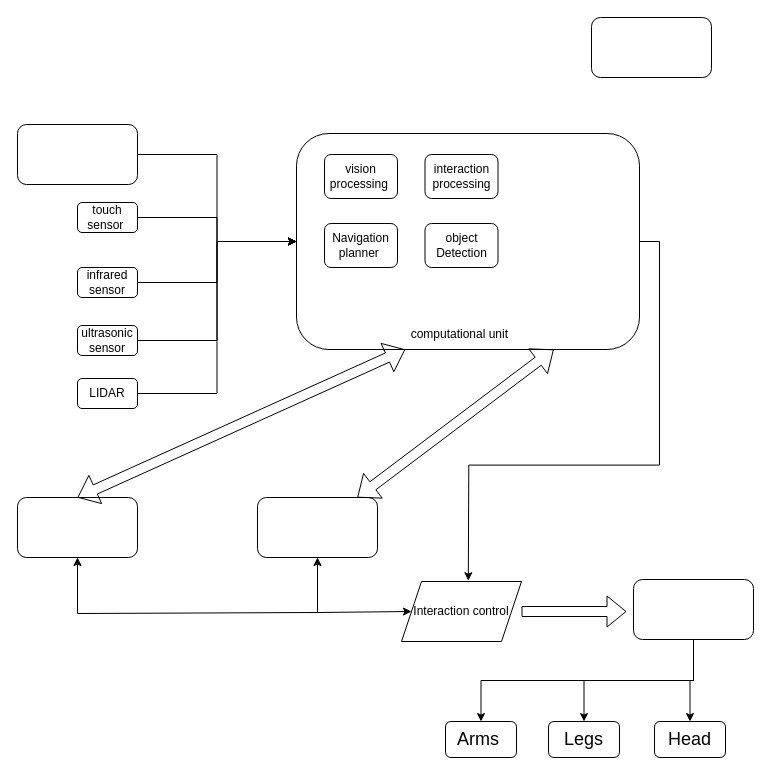
Image size: 771x775. Some labels were removed from this diagram. Each missing label, with the centre of its shape:
"Computer vision" goes at point 77,154.
"Model 1" goes at point 77,527.
"Model 2" goes at point 317,527.
"Motor control drivers" goes at point 693,609.
"Screen" goes at point 651,47.
